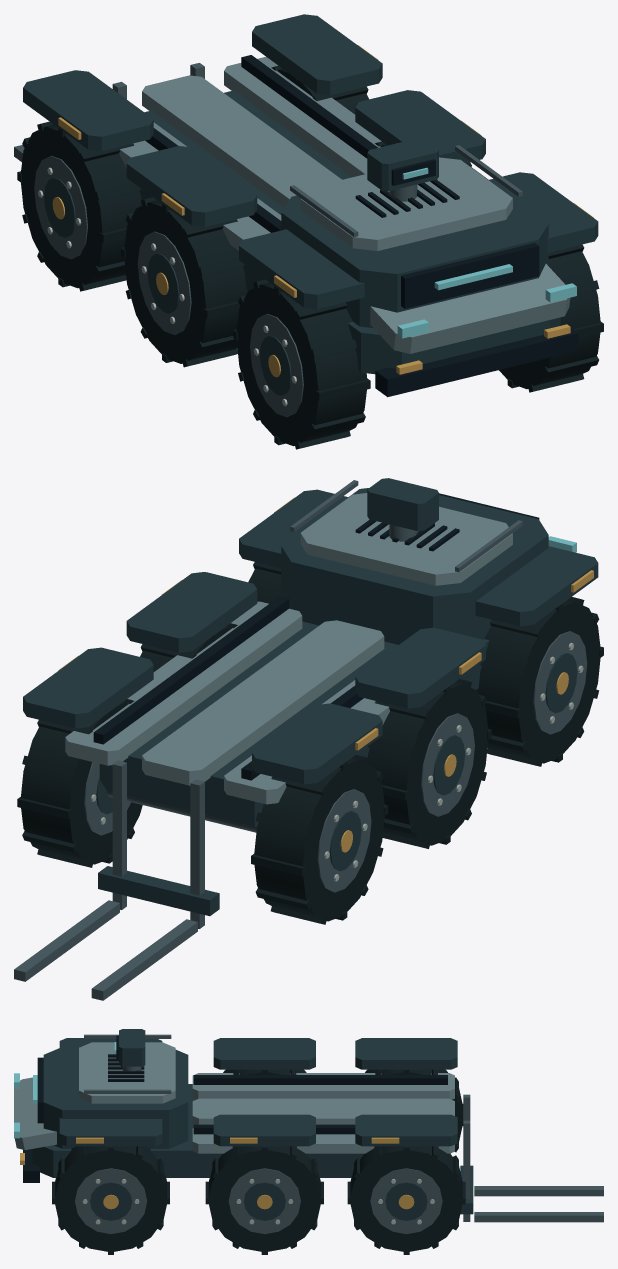
The model's file is hauler_d0_lod1.glb.
3 views of the same model, one above another, from view 1: azimuth 30°, elevation 25°; view 2: azimuth 150°, elevation 25°; view 3: azimuth 270°, elevation 25° (orthographic). The views are drawn at different scales.
Parts seen in each view (by area): view 1: HAULER_CHASSIS, WHEEL_L_FRONT_MESH, WHEEL_L_MID_MESH, WHEEL_L_REAR_MESH, WHEEL_R_FRONT_MESH, SENSOR_HEAD, WHEEL_R_REAR_MESH; view 2: HAULER_CHASSIS, WHEEL_L_REAR_MESH, WHEEL_L_FRONT_MESH, WHEEL_L_MID_MESH, WHEEL_R_REAR_MESH, LIFT_FORKS, LIFT_RAILS, SENSOR_HEAD, WHEEL_R_FRONT_MESH, WHEEL_R_MID_MESH; view 3: HAULER_CHASSIS, WHEEL_R_FRONT_MESH, WHEEL_R_REAR_MESH, WHEEL_R_MID_MESH, LIFT_FORKS, SENSOR_HEAD, WHEEL_L_REAR_MESH, LIFT_RAILS, WHEEL_L_MID_MESH.
Part boxes in pixels (x1,y1,x2,y2): HAULER_CHASSIS: (23,14,598,397); WHEEL_L_FRONT_MESH: (233,279,370,449); WHEEL_L_MID_MESH: (121,197,248,367); WHEEL_L_REAR_MESH: (17,121,141,291); WHEEL_R_FRONT_MESH: (499,244,603,392); SENSOR_HEAD: (367,138,438,201); WHEEL_R_REAR_MESH: (271,65,368,114); HAULER_CHASSIS: (23,480,598,832); WHEEL_L_REAR_MESH: (251,755,388,924); WHEEL_L_FRONT_MESH: (476,597,603,766); WHEEL_L_MID_MESH: (367,679,491,848); WHEEL_R_REAR_MESH: (17,699,142,867); LIFT_FORKS: (14,866,219,1000); LIFT_RAILS: (112,760,204,928); SENSOR_HEAD: (367,478,438,541); WHEEL_R_FRONT_MESH: (248,562,281,603); WHEEL_R_MID_MESH: (140,623,237,671); HAULER_CHASSIS: (14,1034,457,1182); WHEEL_R_FRONT_MESH: (52,1146,169,1254); WHEEL_R_REAR_MESH: (347,1146,465,1254); WHEEL_R_MID_MESH: (205,1146,323,1254); LIFT_FORKS: (460,1165,603,1222); SENSOR_HEAD: (114,1029,145,1071); WHEEL_L_REAR_MESH: (365,1069,463,1153); LIFT_RAILS: (463,1094,470,1221); WHEEL_L_MID_MESH: (223,1069,306,1074).
Bounding box in the file's own units: 3.93 × 3.09 × 9.79.
